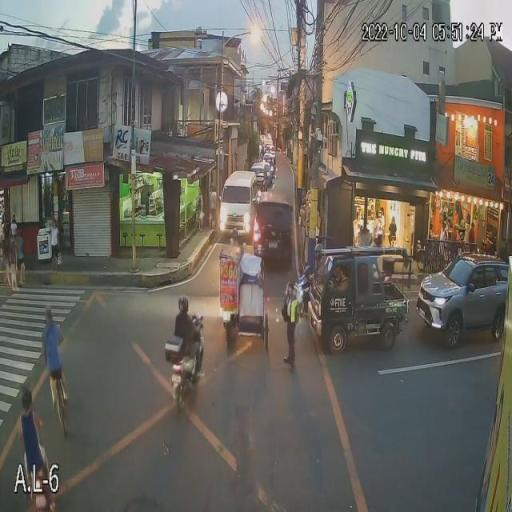helmet: (175, 295, 196, 316)
motorcycle: (162, 311, 211, 416)
rider: (170, 311, 200, 384)
